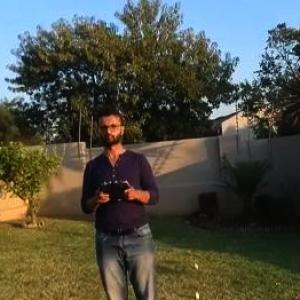follow: (74, 100, 168, 298)
